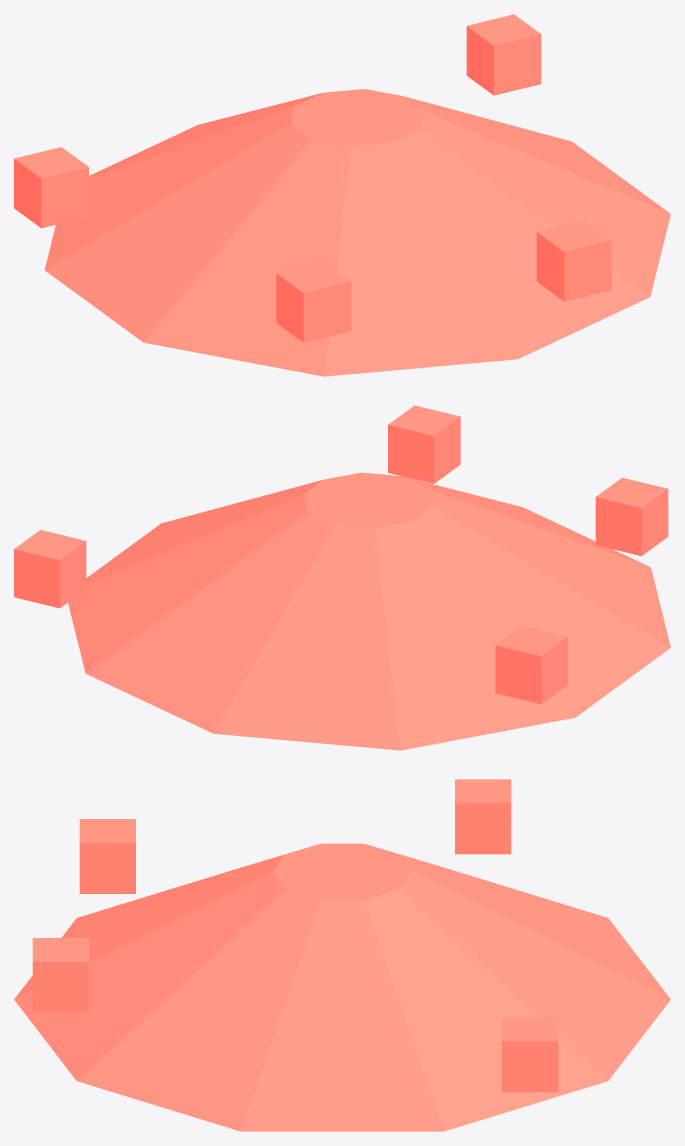
The model's file is cinnabar_held.gltf.
3 renders of one model, top to bottom at view 1: azimuth 30°, elevation 25°; view 2: azimuth 150°, elevation 25°; view 3: azimuth 270°, elevation 25°, orthographic. The views are drawn at different scales.
Parts seen in each view (by area): view 1: ore_cinnabar_held; view 2: ore_cinnabar_held; view 3: ore_cinnabar_held.
Part boxes in pixels (x1=…): ore_cinnabar_held: x1=14, y1=14, x2=670, y2=376; ore_cinnabar_held: x1=14, y1=405, x2=670, y2=750; ore_cinnabar_held: x1=14, y1=779, x2=670, y2=1131.
Bounding box in the file's own units: 0.1331 × 0.03 × 0.14.
